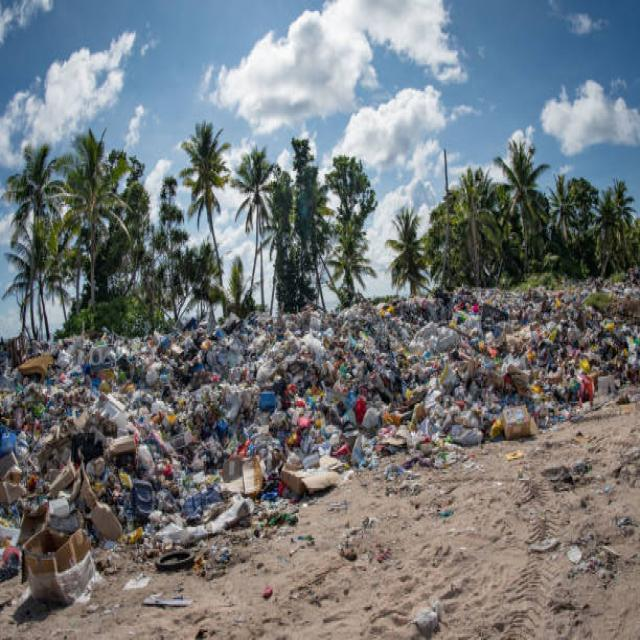cardboard: (28, 527, 102, 596)
trash: (12, 270, 580, 491)
